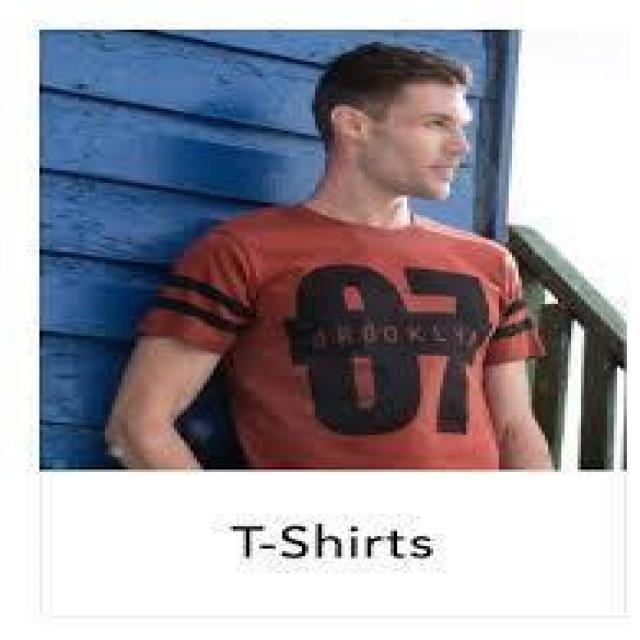Tshirt: (125, 200, 554, 470)
